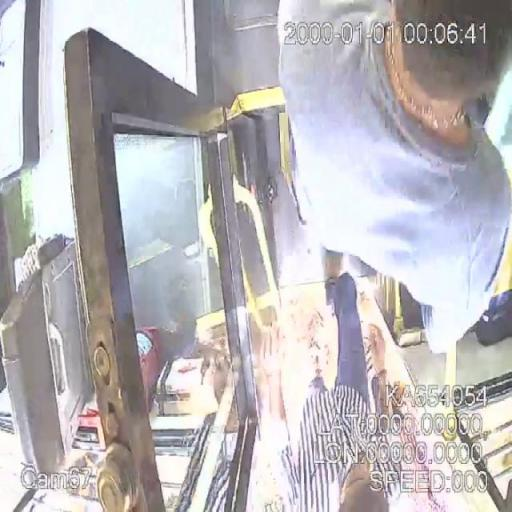persona: (276, 0, 511, 355), (259, 273, 422, 512)
